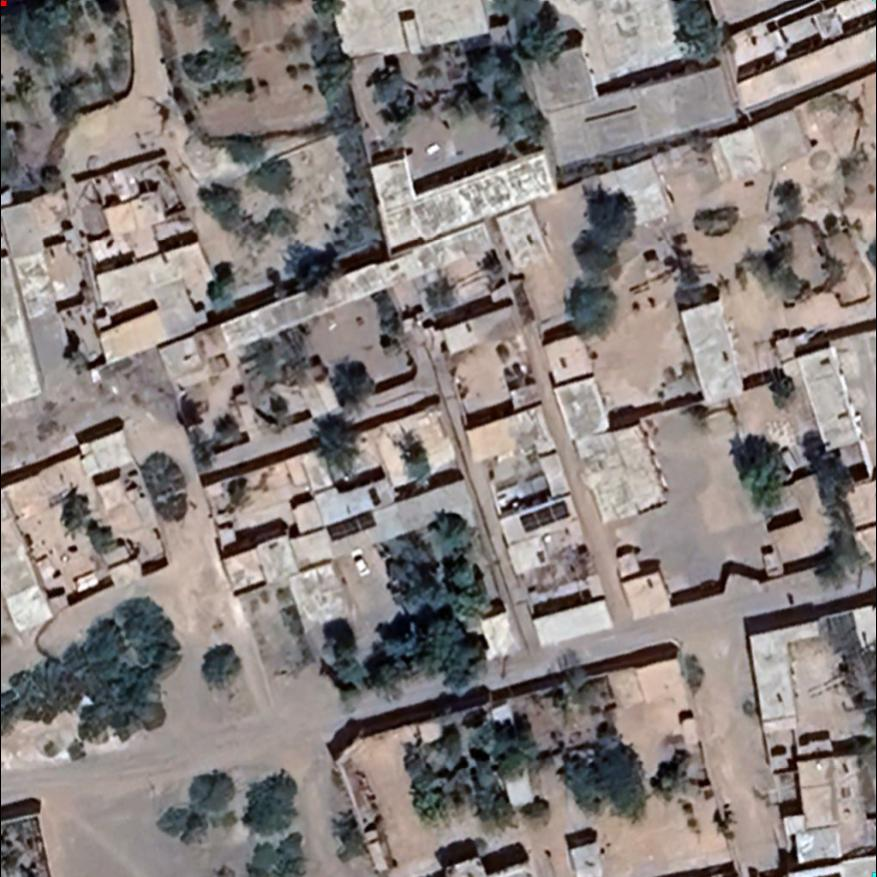Solarpanel: (515, 496, 579, 540)
